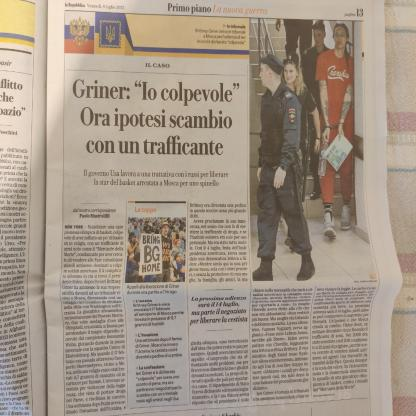immagine: (247, 19, 376, 284), (124, 215, 186, 285)
testo_col: (59, 222, 129, 415), (249, 287, 313, 405), (313, 285, 378, 397), (188, 198, 250, 288)
titolo: (65, 69, 241, 168)
